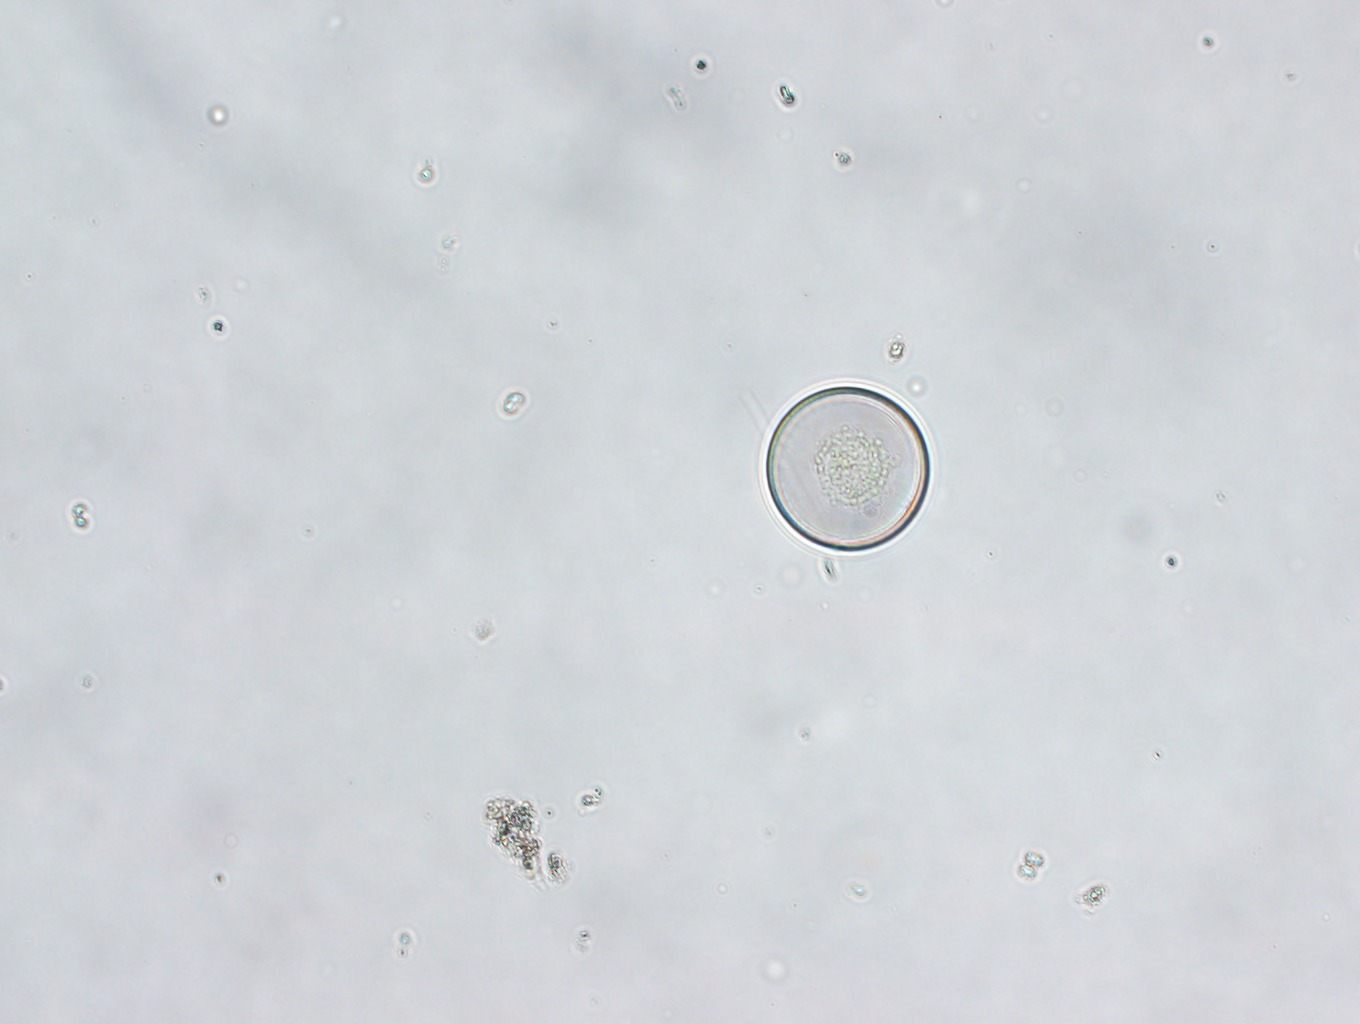coscinodiscus: (753, 373, 935, 556)
